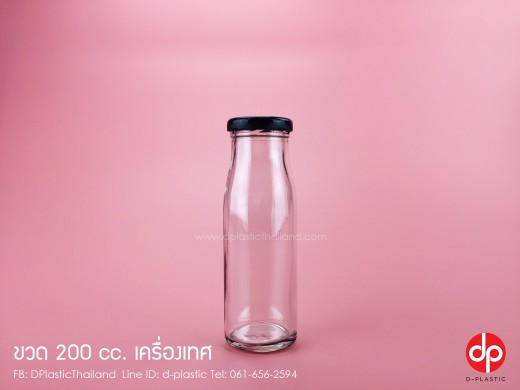glass_bottle: (220, 114, 302, 356)
